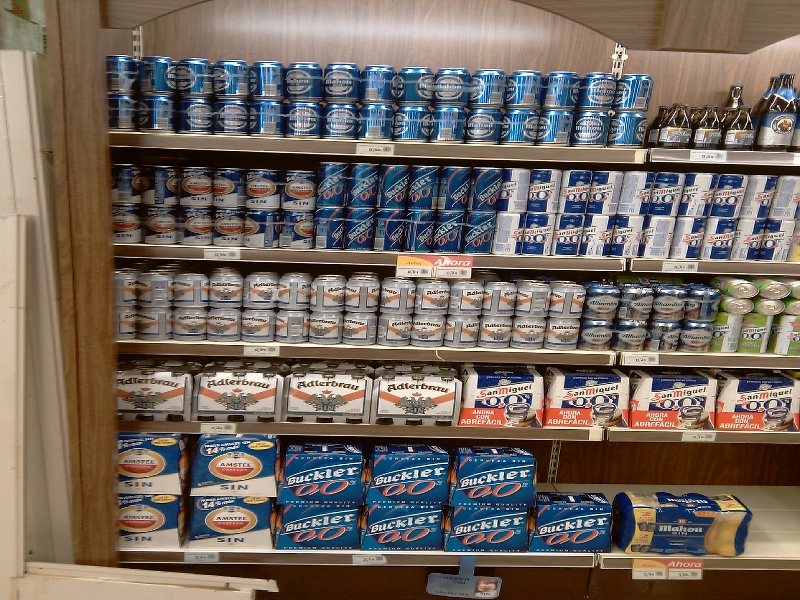beer: (135, 93, 180, 138), (287, 54, 325, 105), (394, 65, 437, 109), (528, 165, 565, 215), (340, 275, 385, 316), (434, 61, 473, 106), (213, 57, 253, 100), (324, 59, 363, 103), (472, 66, 511, 110), (208, 209, 250, 249), (548, 285, 591, 324), (317, 163, 355, 207), (378, 164, 413, 211), (508, 70, 548, 111), (649, 282, 690, 322), (283, 102, 325, 141), (314, 205, 349, 251), (373, 208, 408, 254), (357, 101, 396, 142), (395, 106, 436, 145), (313, 277, 351, 319), (280, 270, 317, 313), (214, 166, 249, 211), (251, 59, 287, 102), (554, 208, 584, 259), (209, 270, 248, 309), (580, 71, 618, 111), (515, 280, 555, 318), (175, 94, 212, 135), (178, 56, 214, 98), (522, 211, 557, 254), (212, 98, 250, 137), (138, 53, 175, 93), (349, 164, 382, 208), (538, 109, 575, 148), (433, 107, 469, 147), (245, 209, 279, 251), (252, 100, 285, 143), (284, 170, 317, 213), (411, 163, 443, 207), (546, 73, 583, 111), (279, 209, 314, 249), (363, 63, 396, 105), (406, 207, 436, 253), (504, 110, 539, 149), (469, 106, 503, 146), (441, 166, 471, 210), (245, 169, 278, 209), (180, 167, 213, 207), (688, 285, 720, 326), (325, 104, 359, 142), (472, 167, 500, 212), (451, 279, 485, 316), (351, 206, 378, 251), (437, 211, 465, 254), (467, 211, 494, 253), (486, 281, 517, 315)
